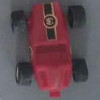rojo: (13, 3, 86, 95)
